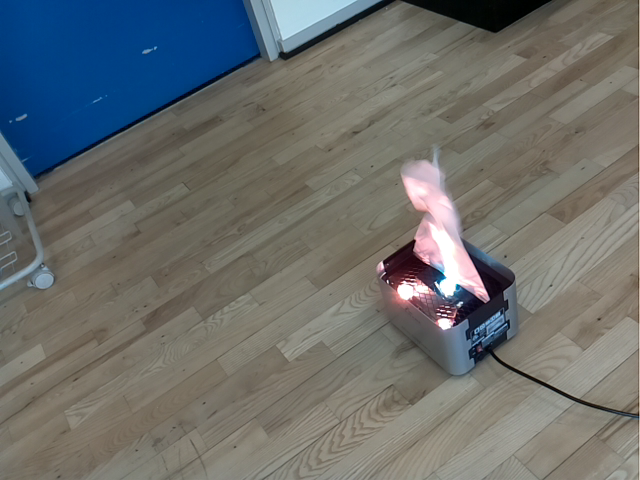fire: (399, 159, 489, 303)
